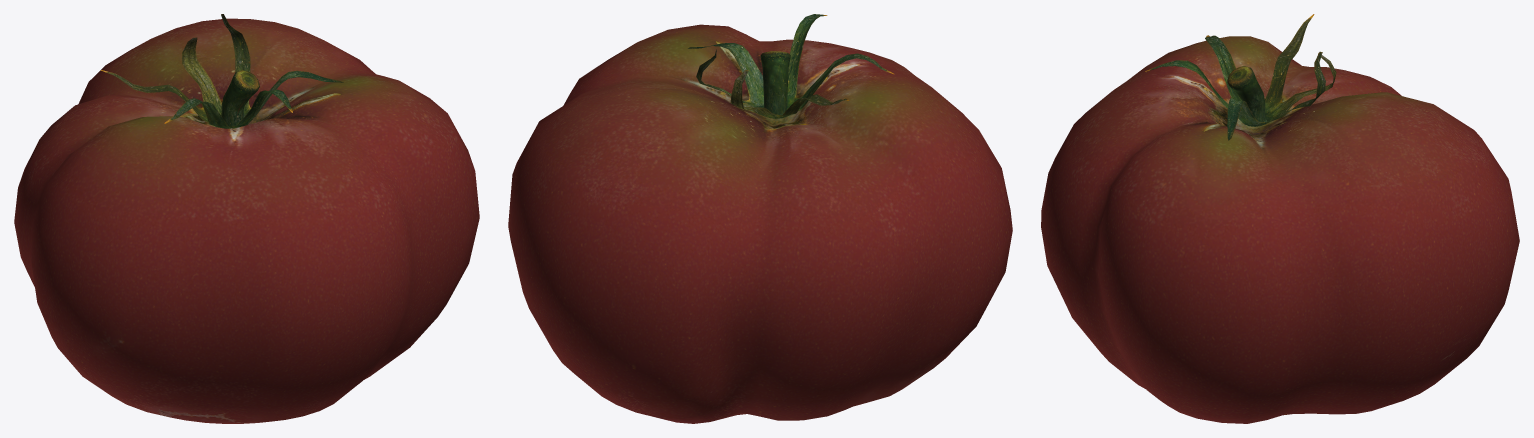
The model's file is Tomato.obj.
The picture shows the model from 3 angles, left to right: view 1: azimuth 30°, elevation 25°; view 2: azimuth 150°, elevation 25°; view 3: azimuth 270°, elevation 25°; orthographic projection. The views are drawn at different scales.
Parts seen in each view (by area): view 1: Tomato; view 2: Tomato; view 3: Tomato.
Boxes of the visible parts, x1,y1,x2,y2 form: Tomato: [14, 14, 479, 423]; Tomato: [508, 14, 1012, 423]; Tomato: [1041, 14, 1519, 423].
Size of the model in its own units: 0.1883 by 0.1499 by 0.1898.
